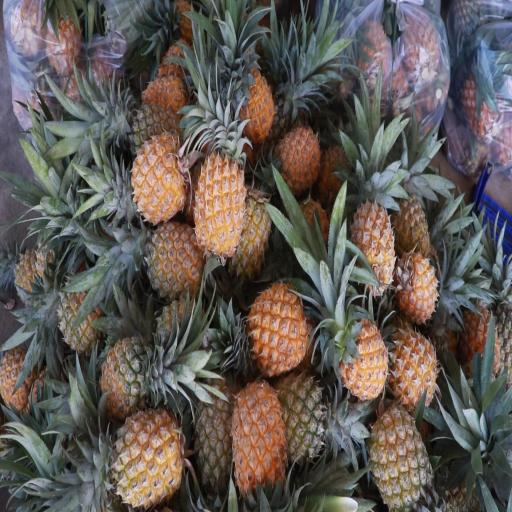------------------------------: (364, 395, 432, 512), (189, 356, 241, 497), (262, 368, 331, 464), (94, 335, 171, 421), (53, 266, 105, 362), (118, 102, 178, 162)
Pineapple - v8 v1: (102, 396, 184, 508), (230, 370, 289, 505), (242, 276, 308, 379), (194, 142, 246, 268), (134, 212, 204, 302), (350, 179, 399, 302), (127, 131, 190, 225), (335, 303, 392, 406), (226, 162, 273, 276), (384, 318, 436, 416), (266, 110, 321, 192), (387, 166, 432, 260), (388, 244, 439, 326), (232, 66, 274, 150)
